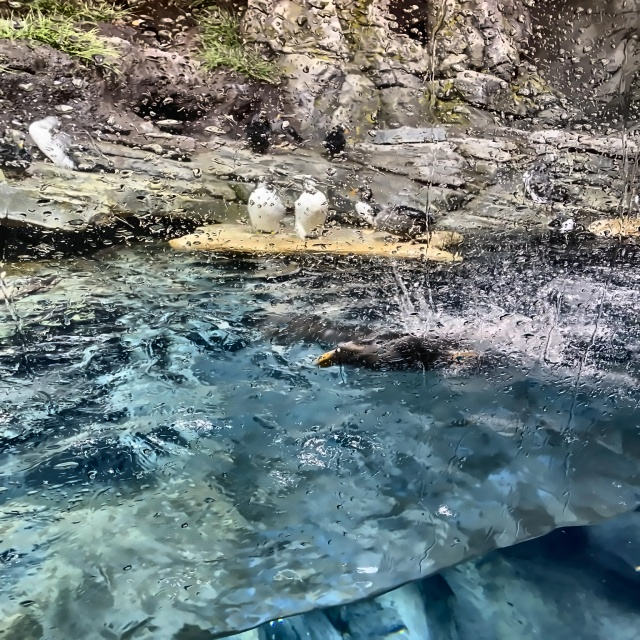puffin: (312, 325, 486, 373), (32, 116, 80, 168), (249, 178, 287, 235), (293, 183, 329, 238), (521, 169, 571, 205), (350, 185, 385, 234), (547, 215, 595, 249), (387, 204, 427, 237), (269, 113, 304, 148), (322, 122, 349, 162), (130, 19, 161, 46), (250, 110, 269, 151)
